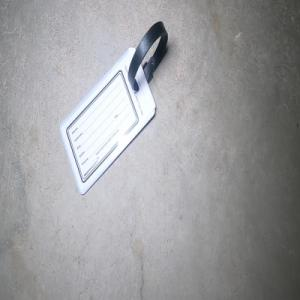LuggageTag: (58, 19, 169, 197)
